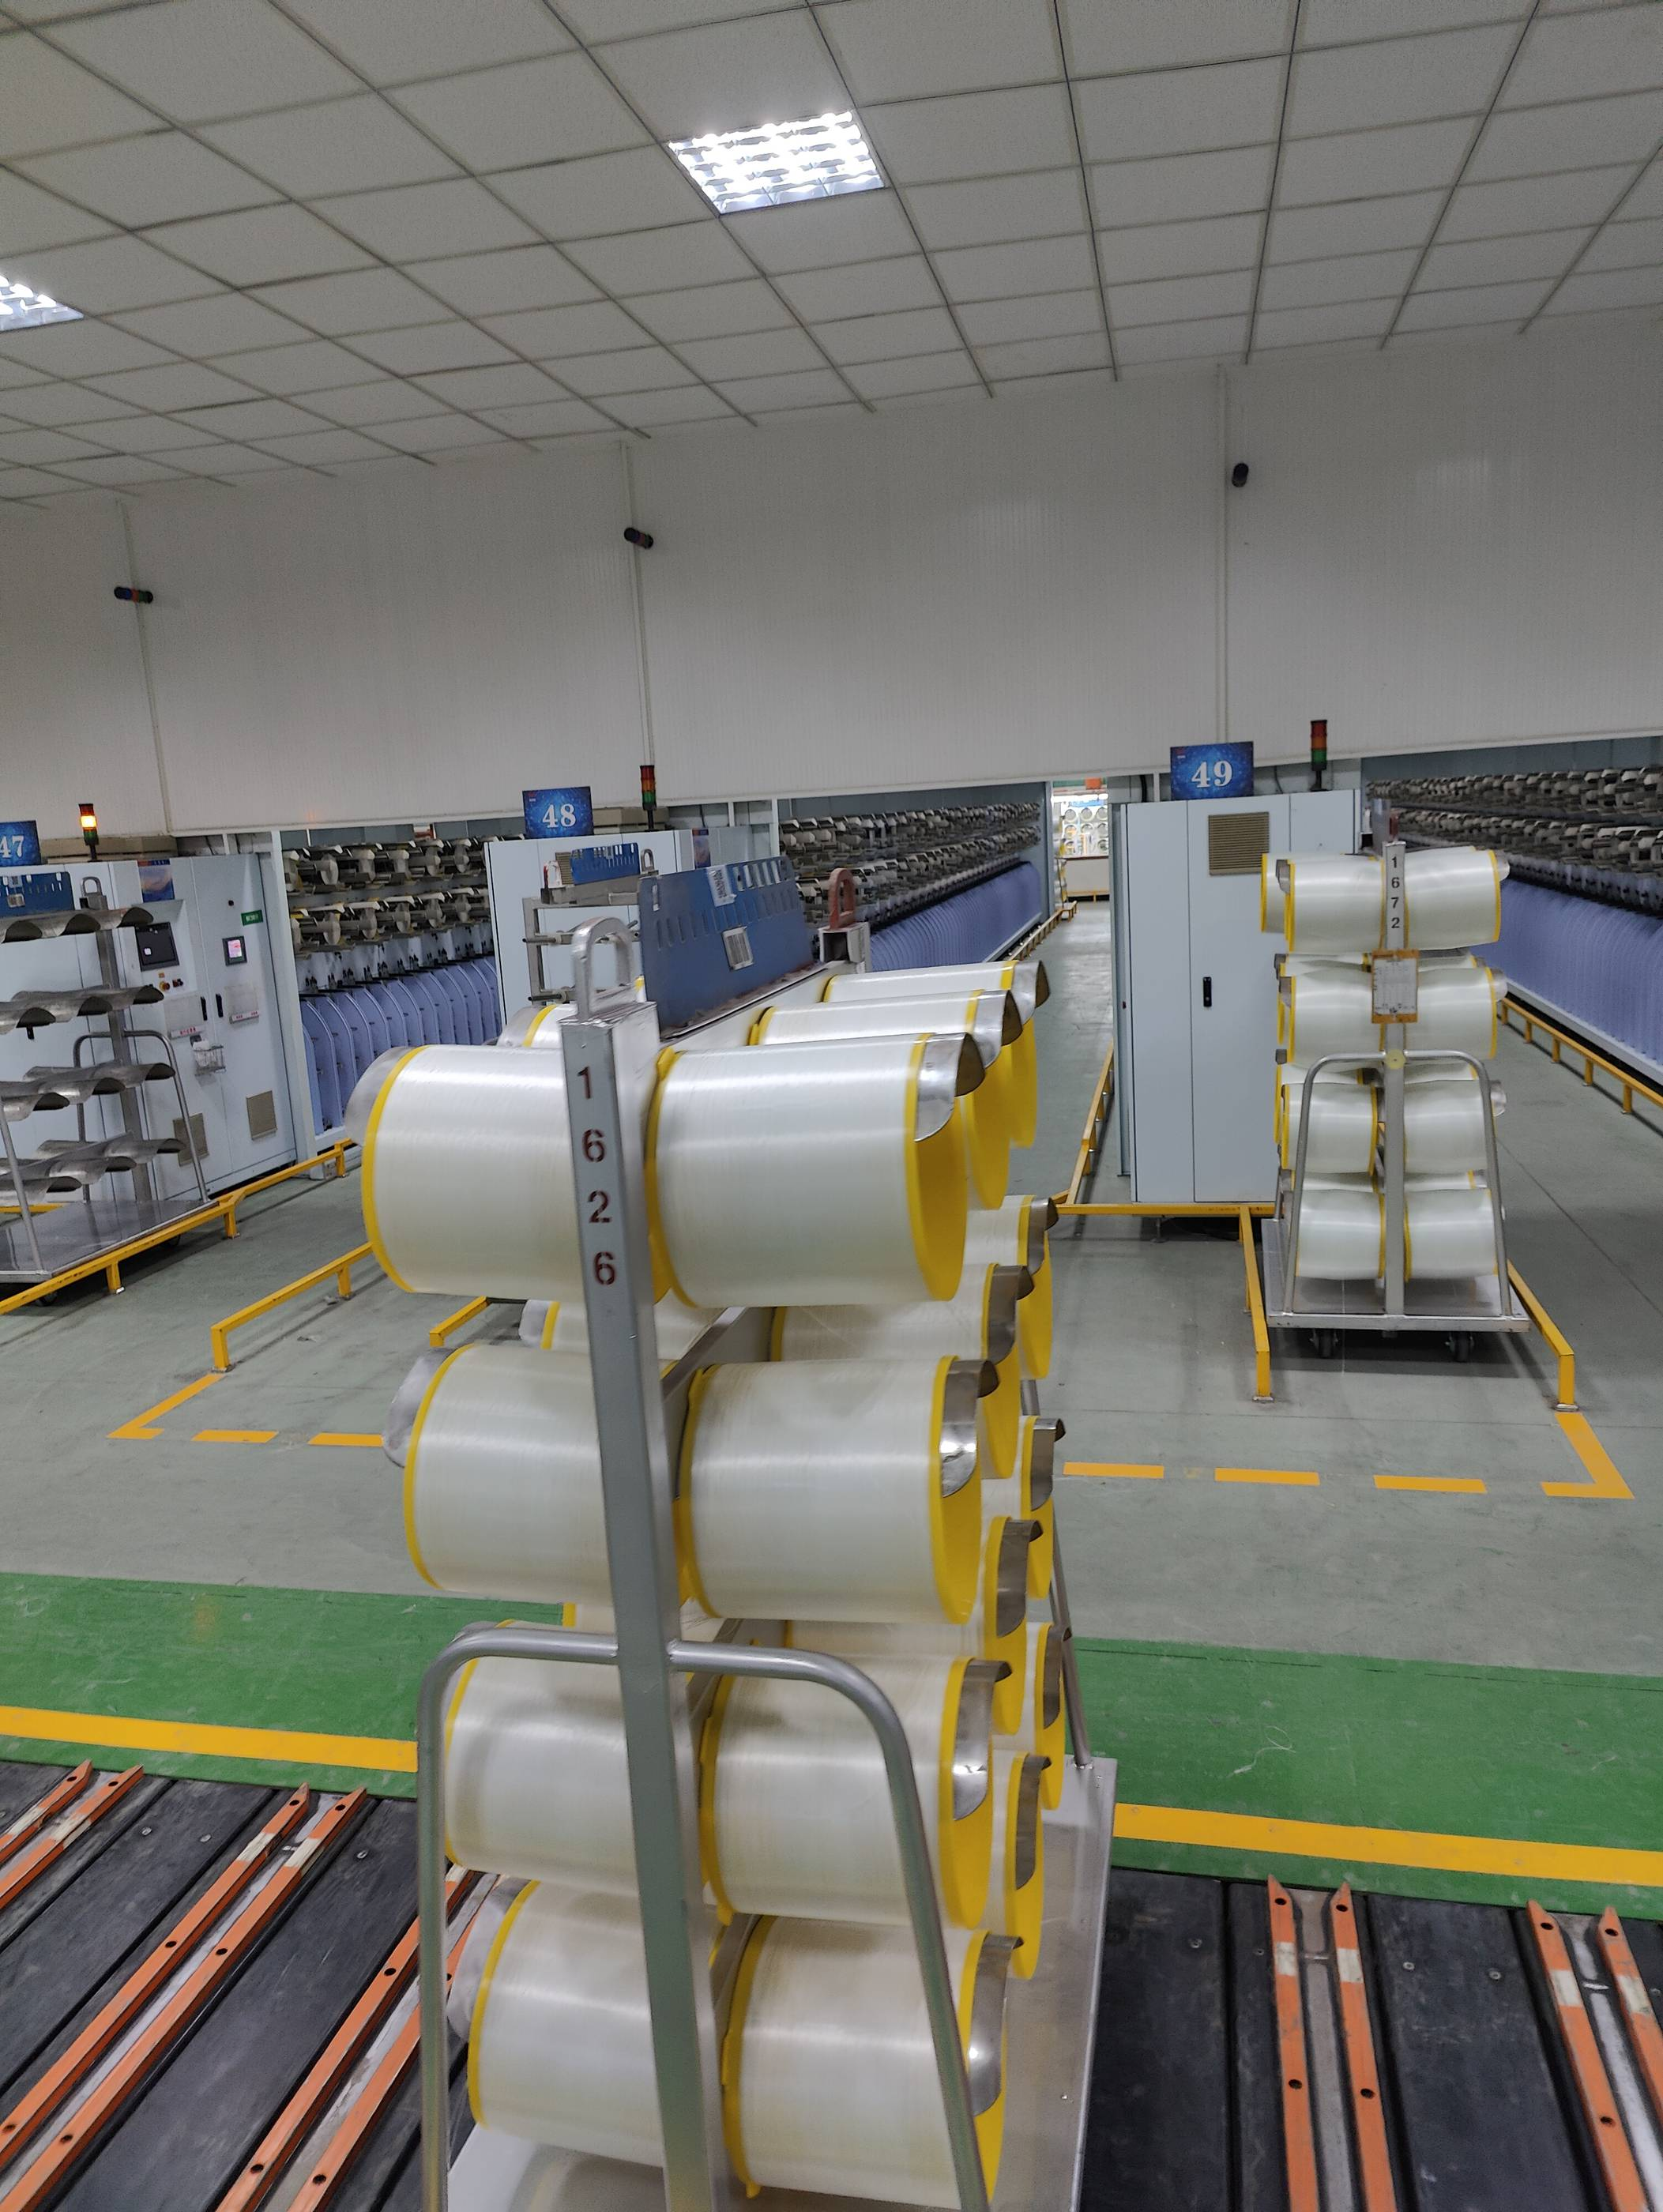b1: (360, 905, 1060, 2193)
b2: (1235, 811, 1542, 1370)
